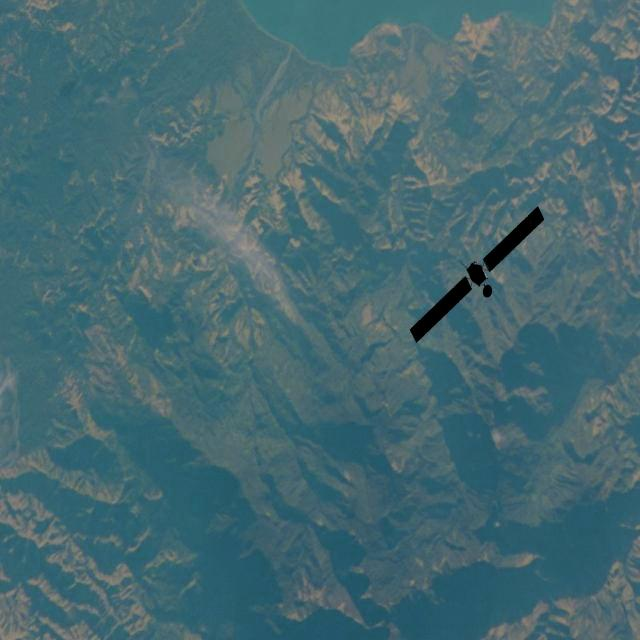medium_debris: (409, 205, 549, 347)
